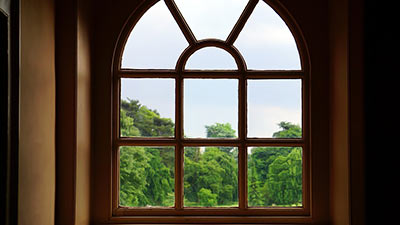Window: (112, 4, 315, 220)
